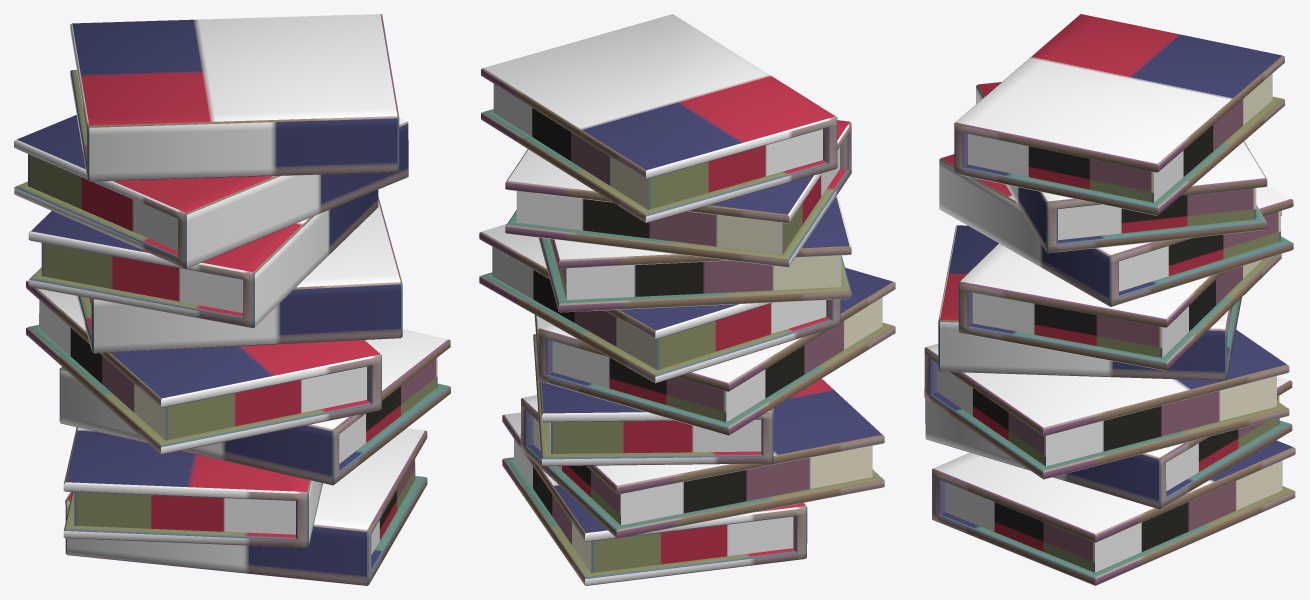
The model's file is SM_Livre_3.fbx.
3 renders of one model, left to right at view 1: azimuth 30°, elevation 25°; view 2: azimuth 150°, elevation 25°; view 3: azimuth 270°, elevation 25°, orthographic. The views are drawn at different scales.
Visible parts, largest first — view 1: SM_Livre_1_LP; view 2: SM_Livre_1_LP; view 3: SM_Livre_1_LP.
Boxes of the visible parts, left/top/right/bottom form: SM_Livre_1_LP: left=14, top=14, right=450, bottom=585; SM_Livre_1_LP: left=479, top=14, right=895, bottom=585; SM_Livre_1_LP: left=924, top=14, right=1295, bottom=585.
Bounding box in the file's own units: 31.82 × 35.67 × 28.74.
